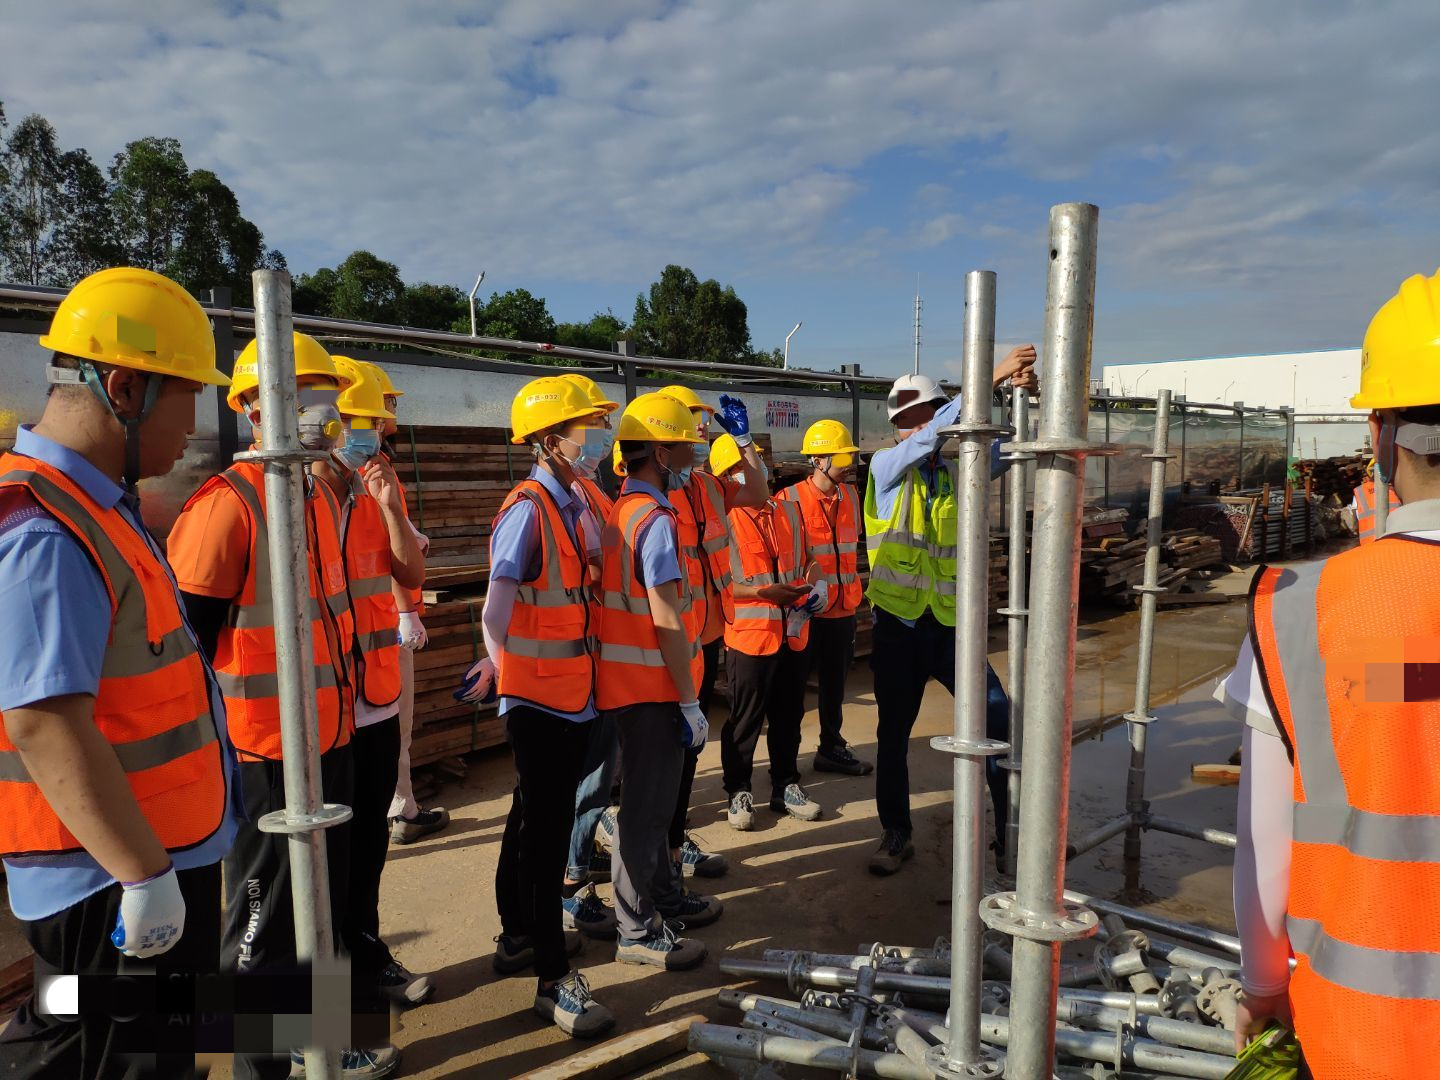helmet: (62, 259, 237, 392), (1326, 272, 1440, 408), (229, 333, 336, 419), (505, 370, 590, 433), (617, 397, 704, 442), (341, 356, 409, 413), (700, 415, 756, 467), (664, 379, 721, 428), (798, 416, 855, 457), (880, 372, 945, 405)
person: (1225, 232, 1440, 1060), (12, 270, 227, 1080), (194, 338, 352, 1065), (479, 359, 619, 1004), (305, 354, 431, 1036), (864, 352, 1013, 885), (589, 388, 721, 952), (704, 426, 815, 832), (754, 409, 872, 789)
vest: (1242, 533, 1440, 1037), (9, 443, 188, 884), (232, 482, 358, 750), (490, 462, 594, 711), (336, 452, 426, 703), (611, 494, 691, 716), (877, 450, 967, 615), (736, 505, 820, 680), (687, 477, 733, 677), (800, 486, 860, 620)
